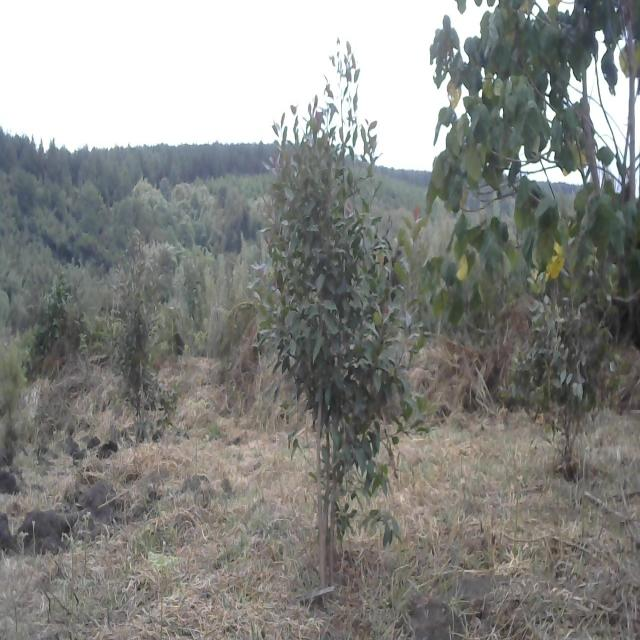Lemon Myrtle: (251, 36, 424, 588), (514, 276, 616, 495)
other: (419, 6, 640, 278)
